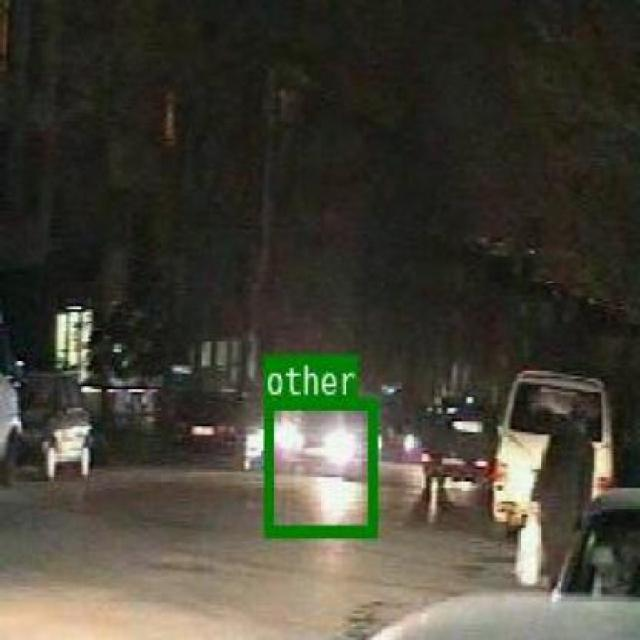Smoke: (262, 396, 375, 535)
